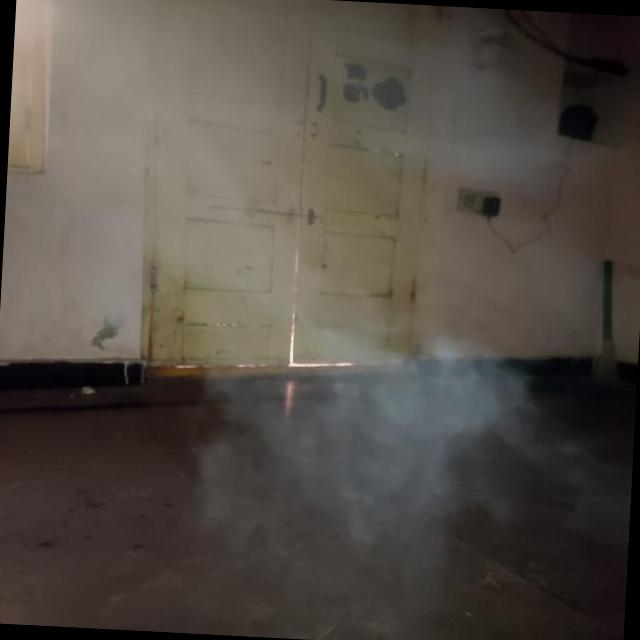smoke: (251, 280, 532, 526)
